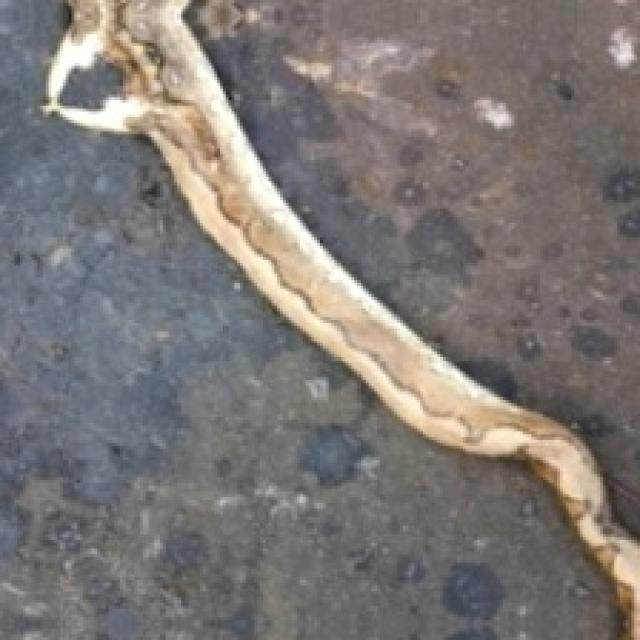reticulated python: (43, 0, 637, 637)
